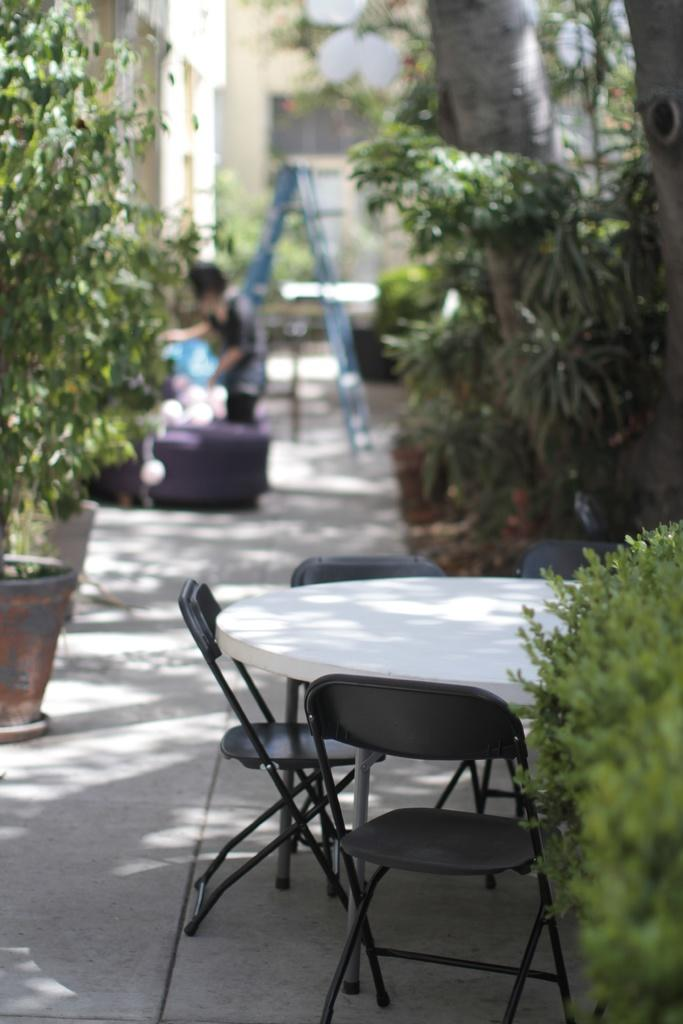Chair: (303, 673, 576, 1023), (177, 577, 385, 936)
Luggage-and-bags: (146, 416, 271, 510)
